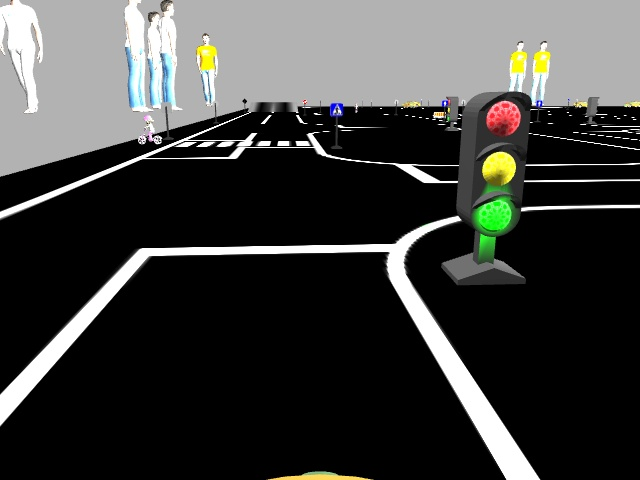Crosswalk: (330, 102, 342, 116)
Pedestrian: (137, 114, 161, 144)
TrafficLight: (455, 90, 531, 236)
